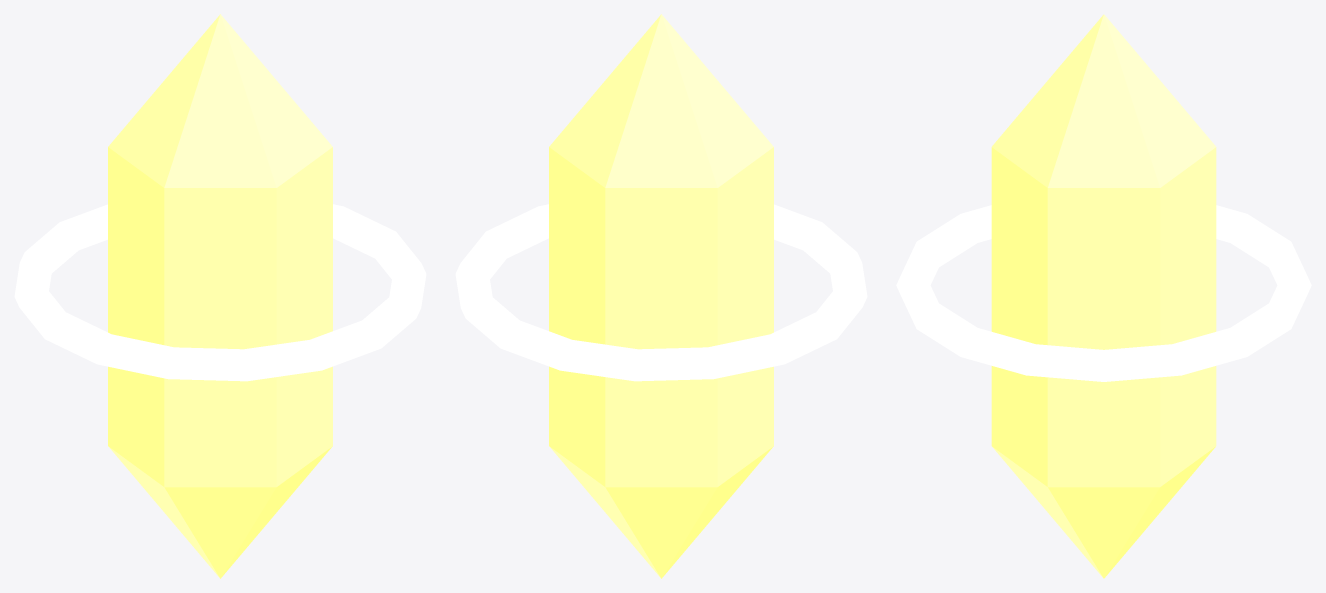
File: crystal4.glb
3 renders of one model, left to right at view 1: azimuth 30°, elevation 25°; view 2: azimuth 150°, elevation 25°; view 3: azimuth 270°, elevation 25°, orthographic.
Visible parts, largest first — view 1: PrismShaft; view 2: PrismShaft; view 3: PrismShaft.
Part boxes in pixels (box(x1,y1,x2,y2)): PrismShaft: box(14, 14, 426, 578); PrismShaft: box(455, 14, 867, 578); PrismShaft: box(896, 14, 1311, 578).
Bounding box in the file's own units: 1.7 × 2.55 × 1.7.
